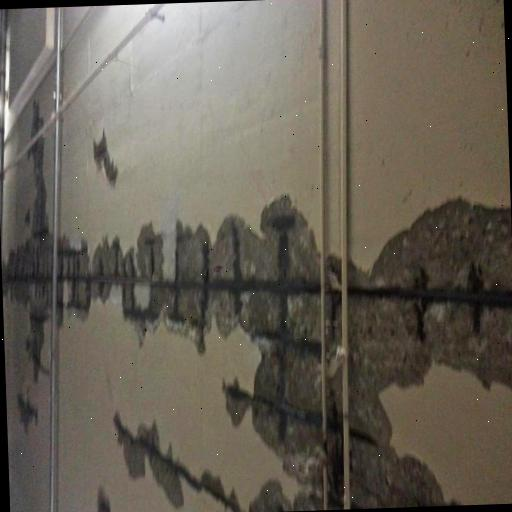spalling: (1, 99, 511, 512)
